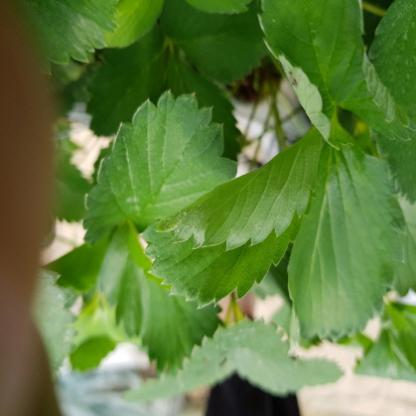Strawberry_Powdery_Mildew_Leaf: (156, 210, 209, 250)
